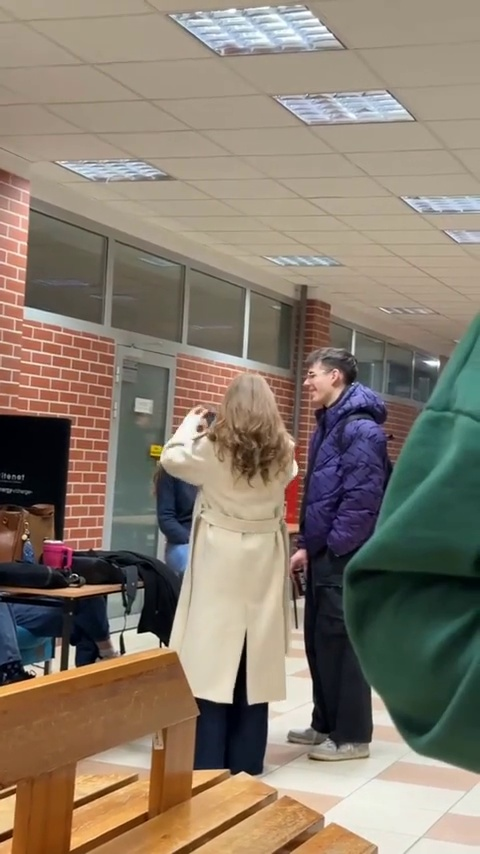no vest: (164, 365, 293, 725), (301, 344, 391, 731)
